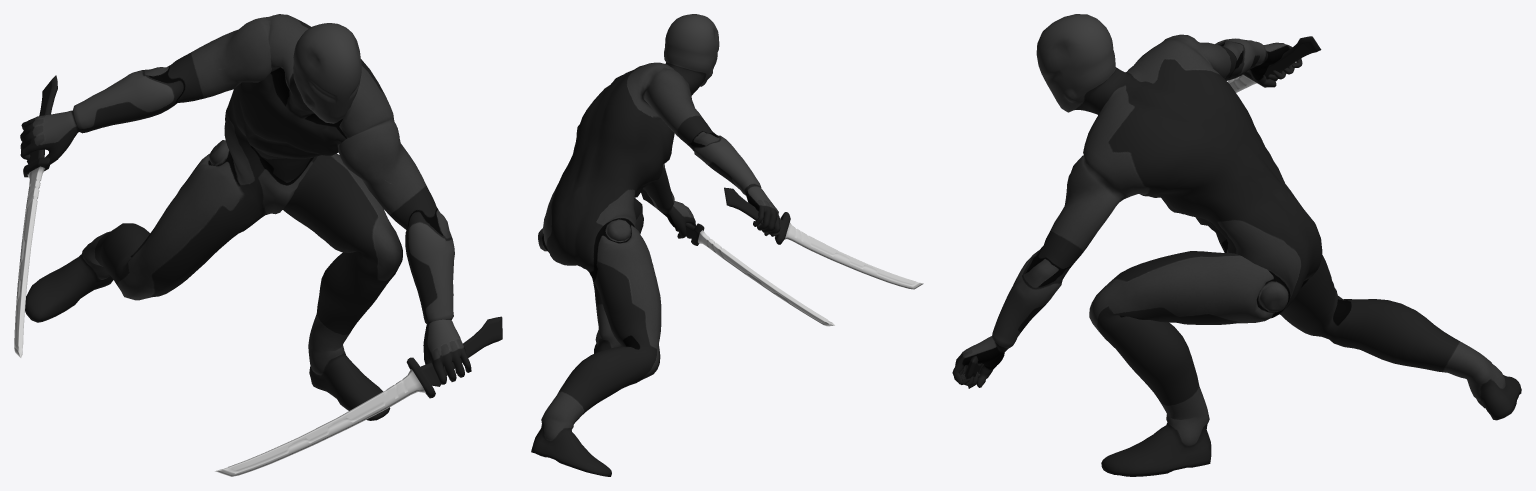
The picture shows the model from 3 angles, left to right: view 1: azimuth 30°, elevation 25°; view 2: azimuth 150°, elevation 25°; view 3: azimuth 270°, elevation 25°; orthographic projection. The views are drawn at different scales.
Visible parts, largest first — view 1: Cyborg_Ninja_Killer, Sword_l, Sword_l001; view 2: Cyborg_Ninja_Killer, Sword_l001, Sword_l; view 3: Cyborg_Ninja_Killer, Sword_l001.
Boxes of the visible parts, bbox=[...] form: Cyborg_Ninja_Killer: bbox=[20, 14, 471, 420]; Sword_l: bbox=[215, 316, 502, 476]; Sword_l001: bbox=[14, 75, 57, 357]; Cyborg_Ninja_Killer: bbox=[531, 14, 780, 476]; Sword_l001: bbox=[724, 187, 923, 289]; Sword_l: bbox=[641, 188, 834, 326]; Cyborg_Ninja_Killer: bbox=[952, 14, 1521, 476]; Sword_l001: bbox=[1227, 36, 1321, 92].
Bounding box in the file's own units: 131 × 124 × 151.
2 materials, 2 textured.
